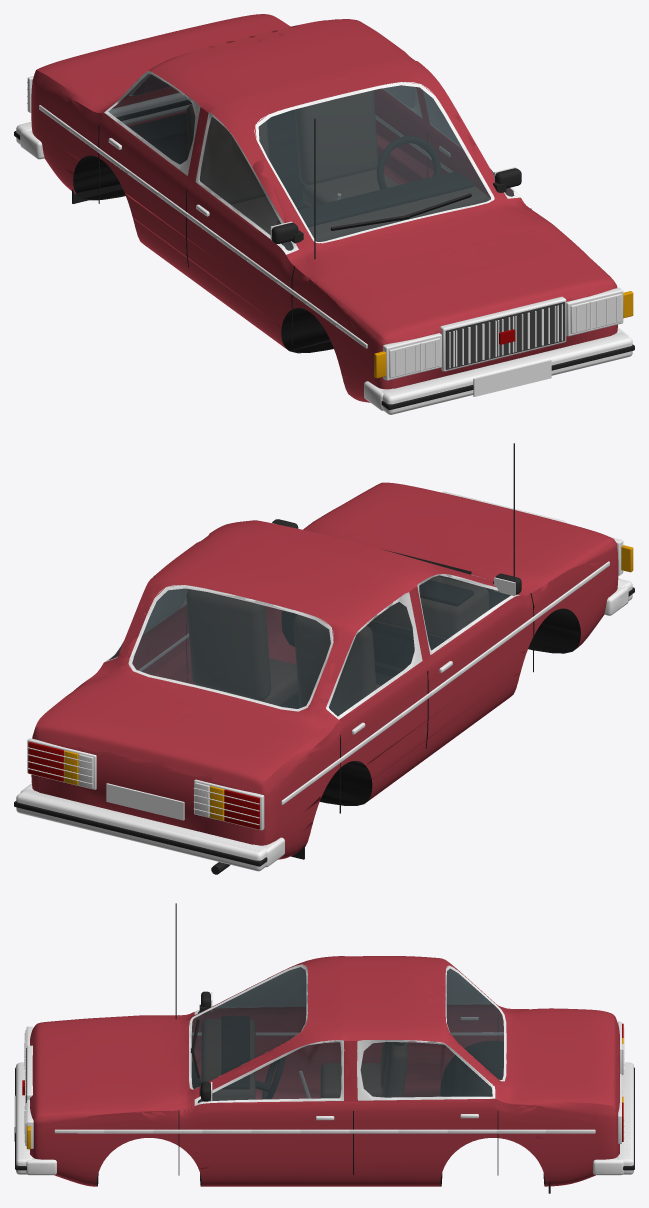
Rendered from vaz2107.glb.
3 renders of one model, top to bottom at view 1: azimuth 30°, elevation 25°; view 2: azimuth 150°, elevation 25°; view 3: azimuth 270°, elevation 25°, orthographic. The views are drawn at different scales.
Parts seen in each view (by area): view 1: LOD_hi, LOD0; view 2: LOD_hi, LOD0; view 3: LOD_hi, LOD0.
Boxes of the visible parts, x1,y1,x2,y2 form: LOD_hi: (14, 14, 634, 414); LOD0: (15, 22, 633, 411); LOD_hi: (14, 443, 634, 874); LOD0: (21, 444, 634, 873); LOD_hi: (14, 903, 634, 1193); LOD0: (14, 903, 632, 1185).
Size of what is drawn, in the model's own units: 1.73 by 1.6 by 4.38.
